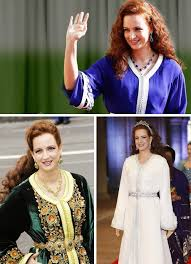middle_eastern_Female: (114, 4, 161, 57)
